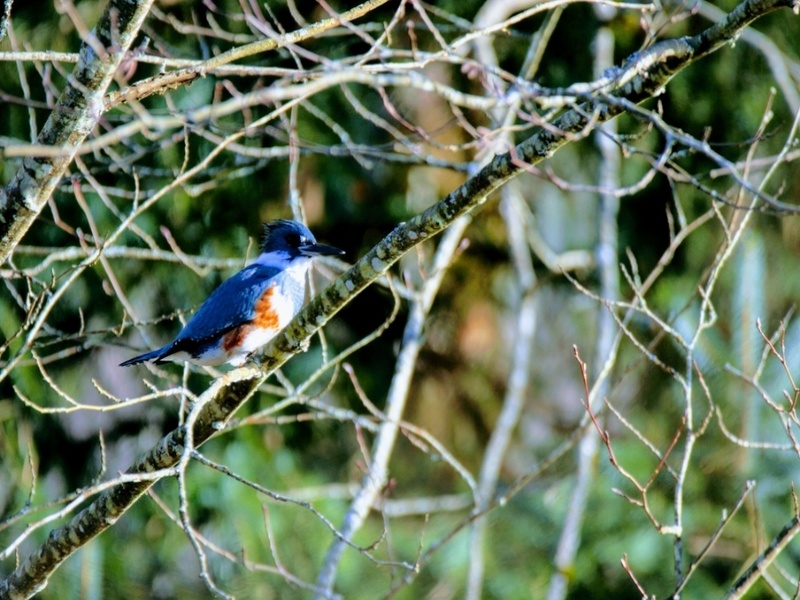kingfisher: (117, 216, 350, 394)
